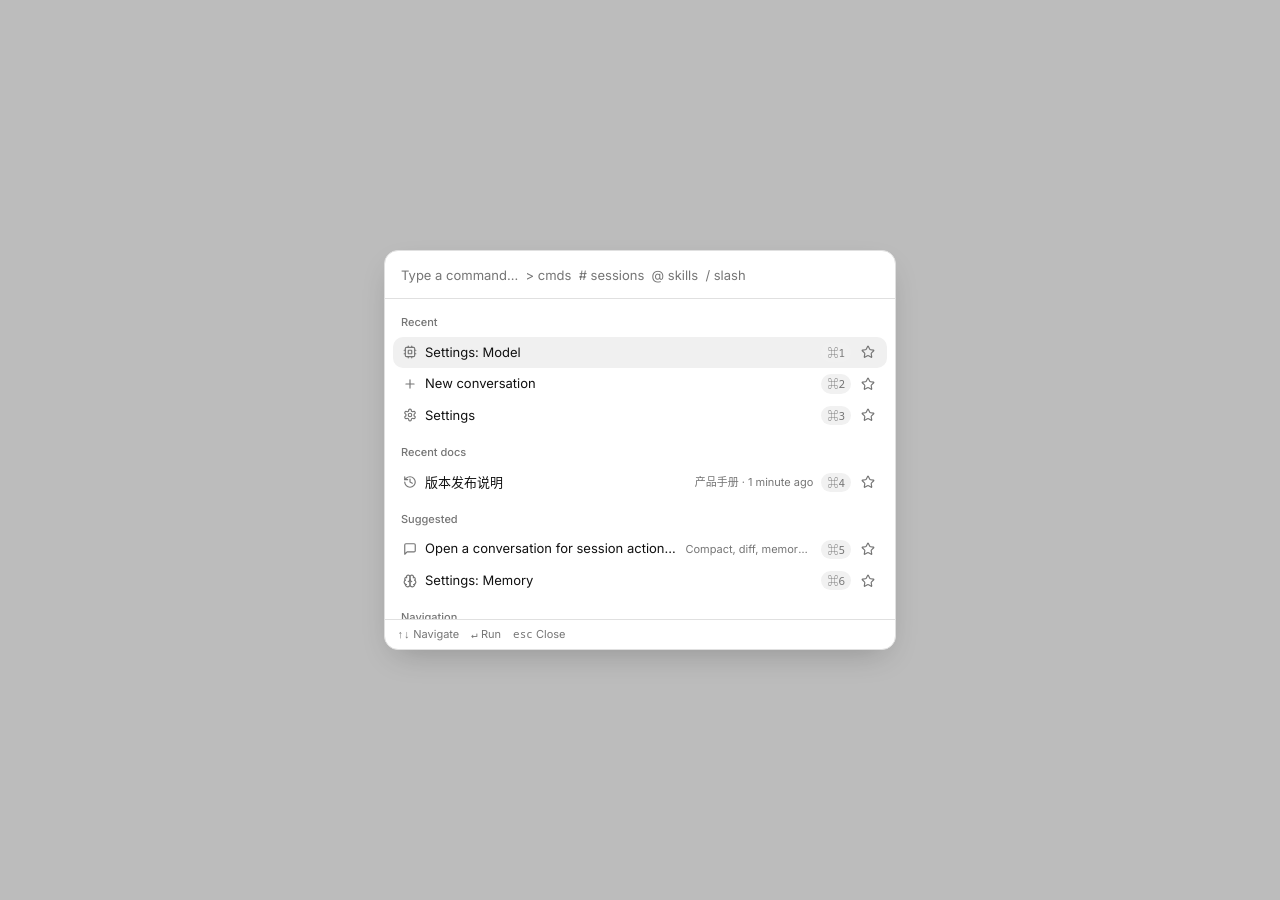
GlobalCommandPalette knowledge search (V2-S1) › no-match query shows empty state without stale doc results
Type "zzz-no-match" into the dropdown with test id "global-command-palette-input" at [640, 275], box [385,251,895,299]
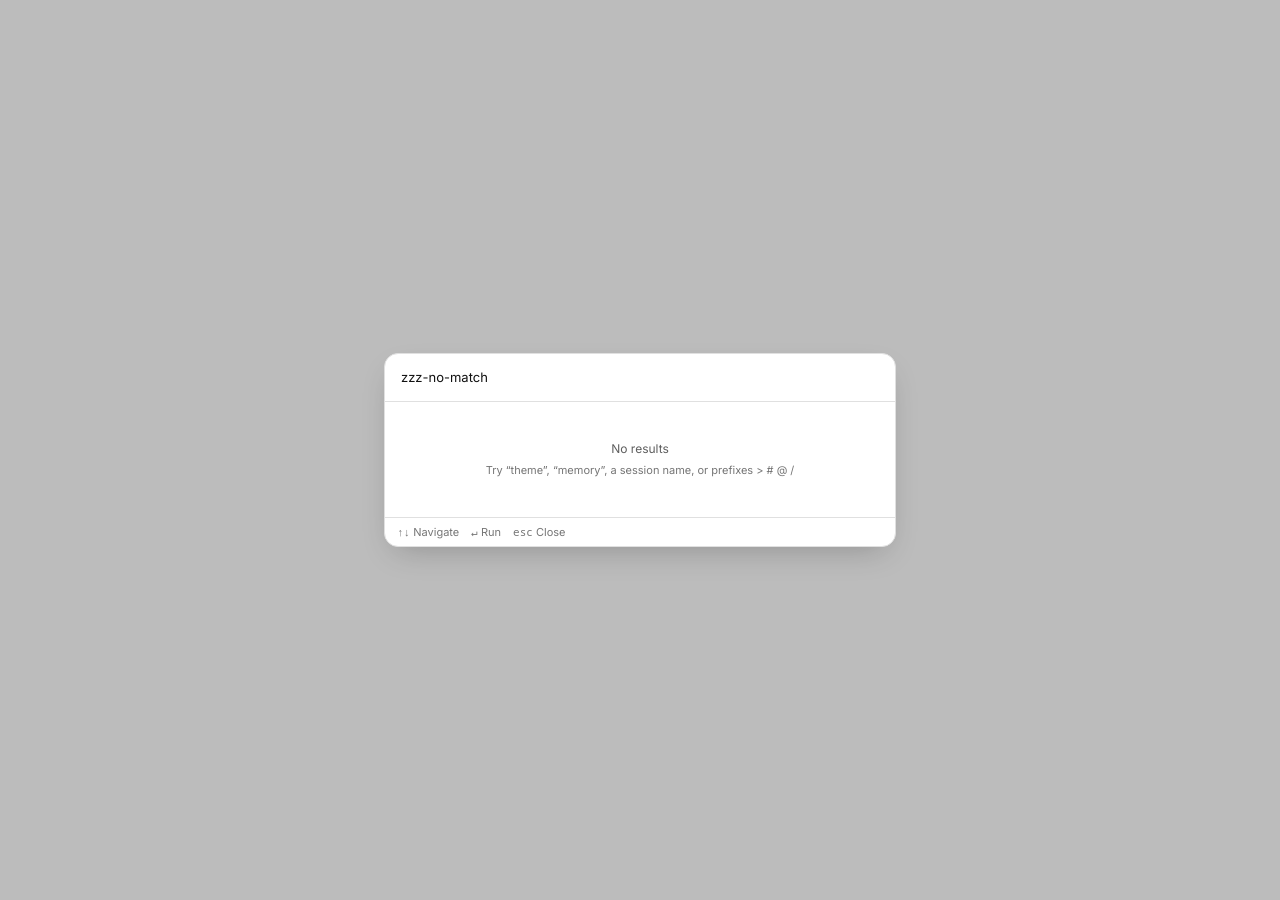
Expected: the message with test id "global-command-palette-empty" shows "No results", [611,441,669,456]
Expected: the option with test id "global-cmd-knowledge-recent-sp-d2" is gone
